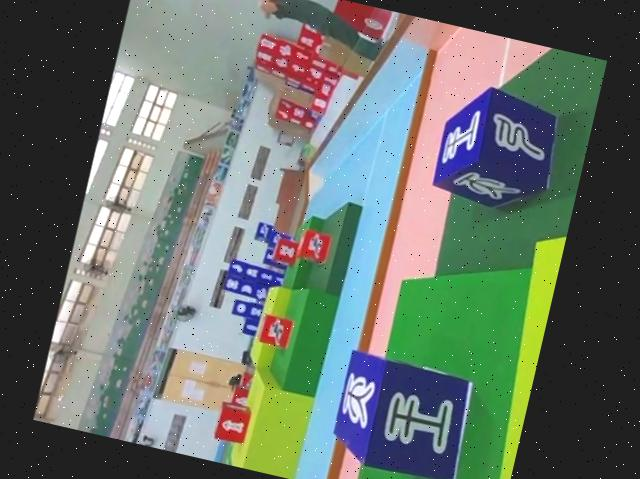R2 Fake Blue: (328, 344, 482, 479), (430, 80, 569, 220)
